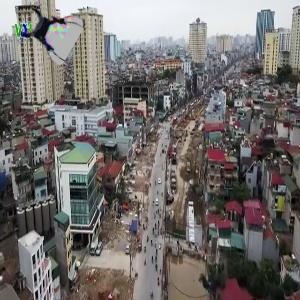drone: (20, 3, 79, 62)
